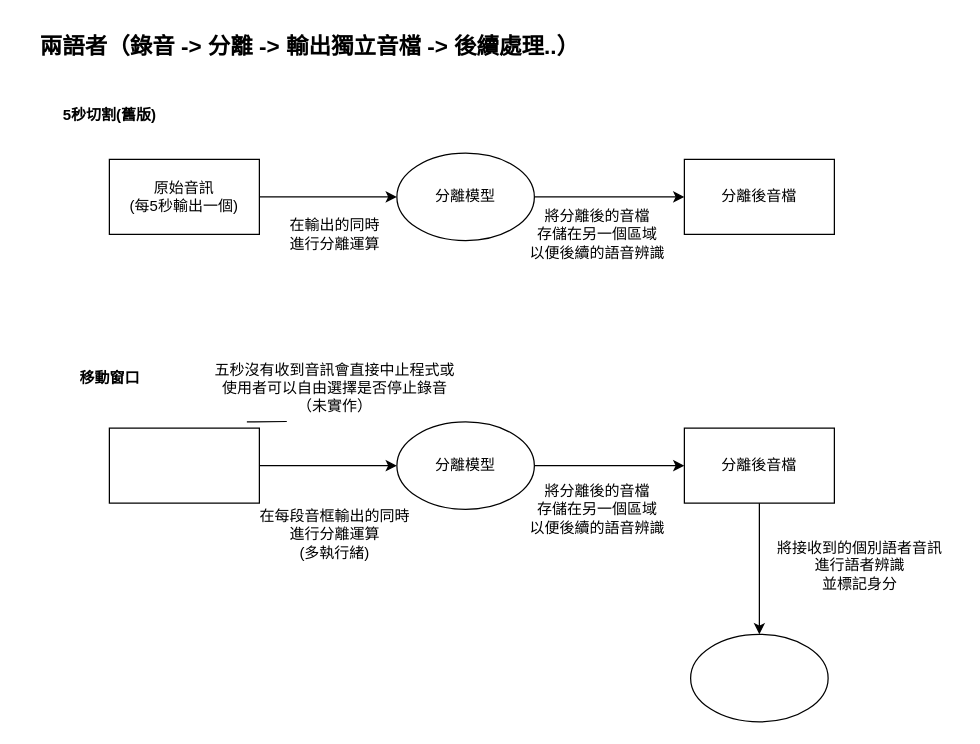
This 980x744 diagram has some shape labels left out. The centre of each missing label's shape, as x and y in pixels:
原始音訊 (以固定長度切割，即每6秒切割一次， overlap為0.5秒): point 183,465
辨識模型: point 758,677
